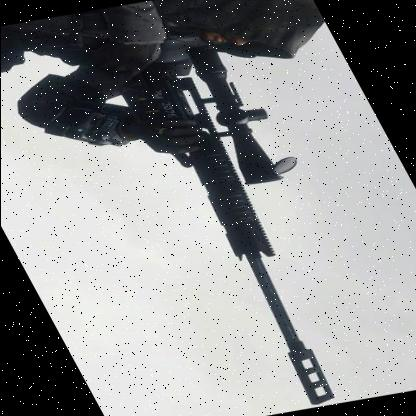rifle: (88, 35, 416, 411)
